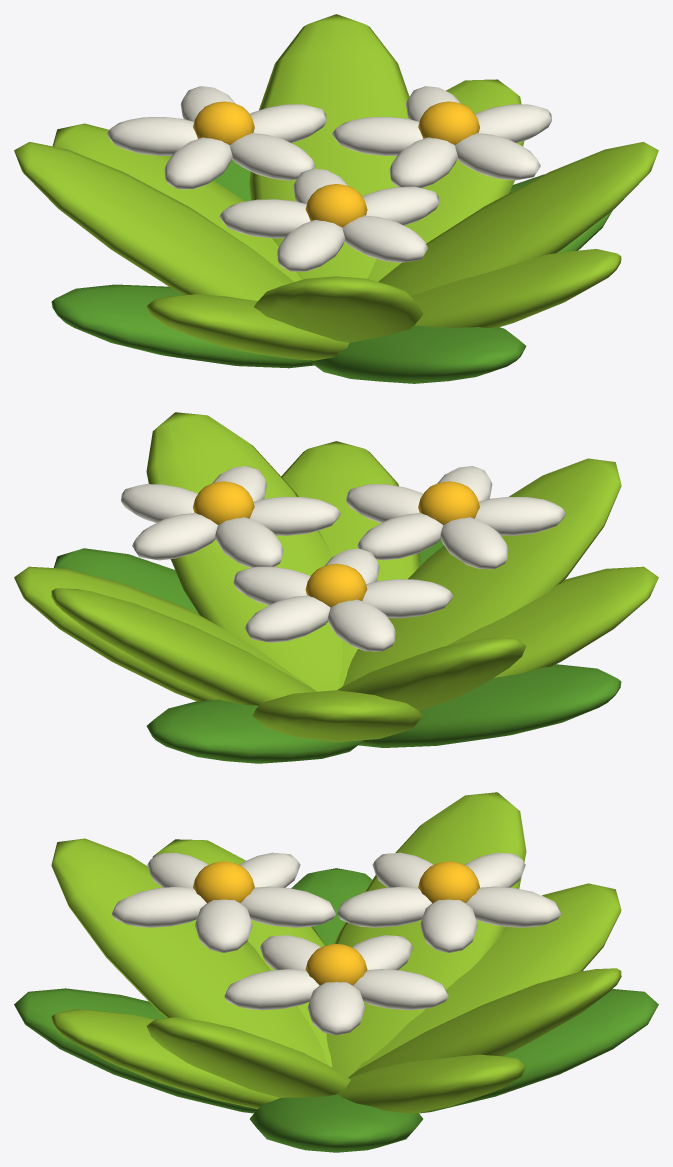
File: flower_bush.glb
The picture shows the model from 3 angles, top to bottom: view 1: azimuth 30°, elevation 25°; view 2: azimuth 150°, elevation 25°; view 3: azimuth 270°, elevation 25°; orthographic projection.
Parts seen in each view (by area): view 1: flower_bush; view 2: flower_bush; view 3: flower_bush.
Boxes of the visible parts, box(x1,y1,x2,y2) form: flower_bush: box(14, 14, 658, 383); flower_bush: box(14, 412, 658, 763); flower_bush: box(14, 792, 658, 1152).
Bounding box in the file's own units: 0.6448 × 0.2374 × 0.6448.
